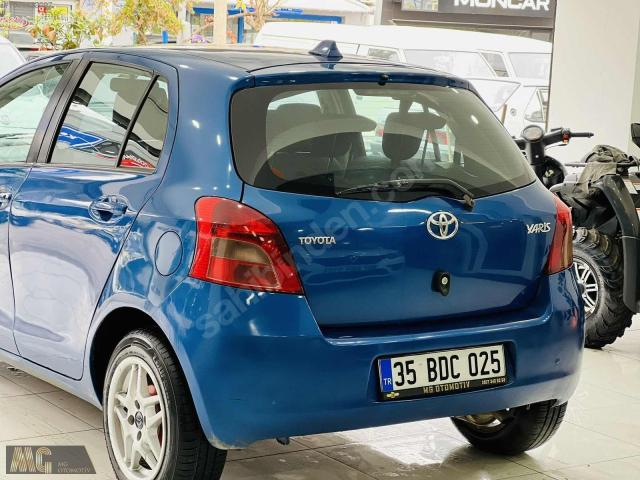plaka: (378, 345, 507, 400)
